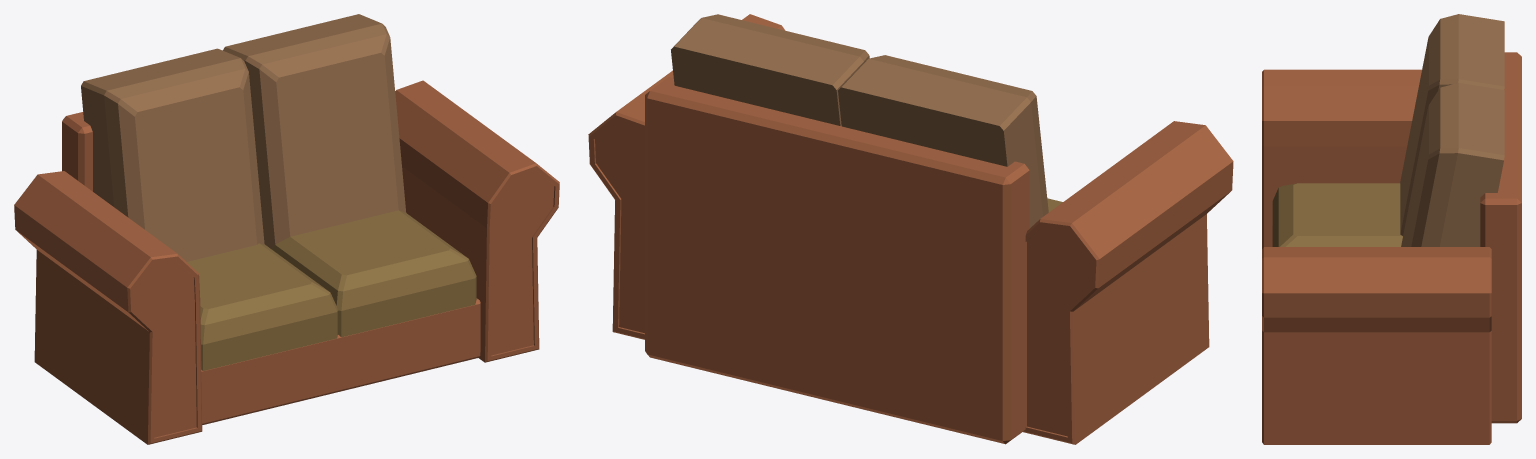
The model's file is TwoSeaterCouch1.glb.
3 renders of one model, left to right at view 1: azimuth 30°, elevation 25°; view 2: azimuth 150°, elevation 25°; view 3: azimuth 270°, elevation 25°, orthographic. The views are drawn at different scales.
Parts seen in each view (by area): view 1: TwoSeaterCouch1, Pad2TwoSeaterCouch1, Pad1TwoSeaterCouch1, Pad4TwoSeaterCouch1, Pad3TwoSeaterCouch1; view 2: TwoSeaterCouch1, Pad1TwoSeaterCouch1, Pad2TwoSeaterCouch1; view 3: TwoSeaterCouch1, Pad2TwoSeaterCouch1, Pad3TwoSeaterCouch1, Pad1TwoSeaterCouch1.
Part boxes in pixels (left/top/right/bottom): TwoSeaterCouch1: left=14, top=80, right=559, bottom=444; Pad2TwoSeaterCouch1: left=223, top=14, right=406, bottom=248; Pad1TwoSeaterCouch1: left=81, top=48, right=264, bottom=261; Pad4TwoSeaterCouch1: left=271, top=210, right=476, bottom=337; Pad3TwoSeaterCouch1: left=187, top=243, right=337, bottom=370; TwoSeaterCouch1: left=588, top=14, right=1233, bottom=444; Pad1TwoSeaterCouch1: left=838, top=55, right=1048, bottom=228; Pad2TwoSeaterCouch1: left=671, top=14, right=869, bottom=125; TwoSeaterCouch1: left=1262, top=52, right=1521, bottom=444; Pad2TwoSeaterCouch1: left=1401, top=83, right=1504, bottom=246; Pad3TwoSeaterCouch1: left=1272, top=183, right=1402, bottom=246; Pad1TwoSeaterCouch1: left=1400, top=14, right=1504, bottom=235.
Size of the model in its own units: 1.97 by 1.18 by 1.03.
